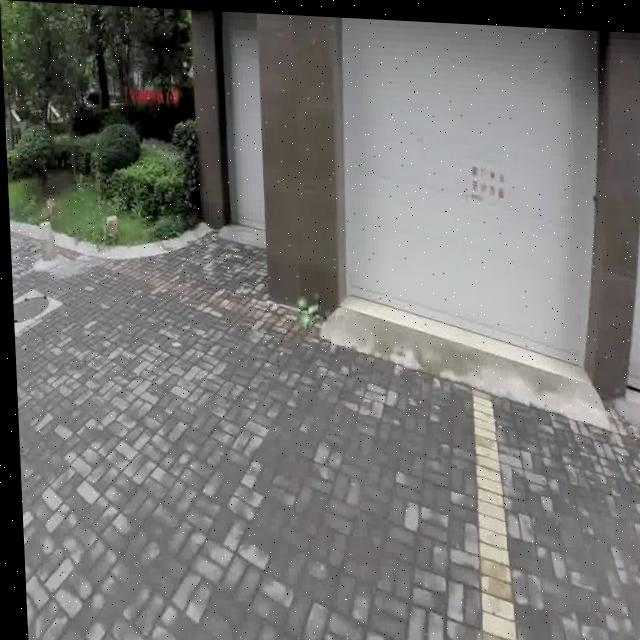drone: (284, 275, 329, 337)
